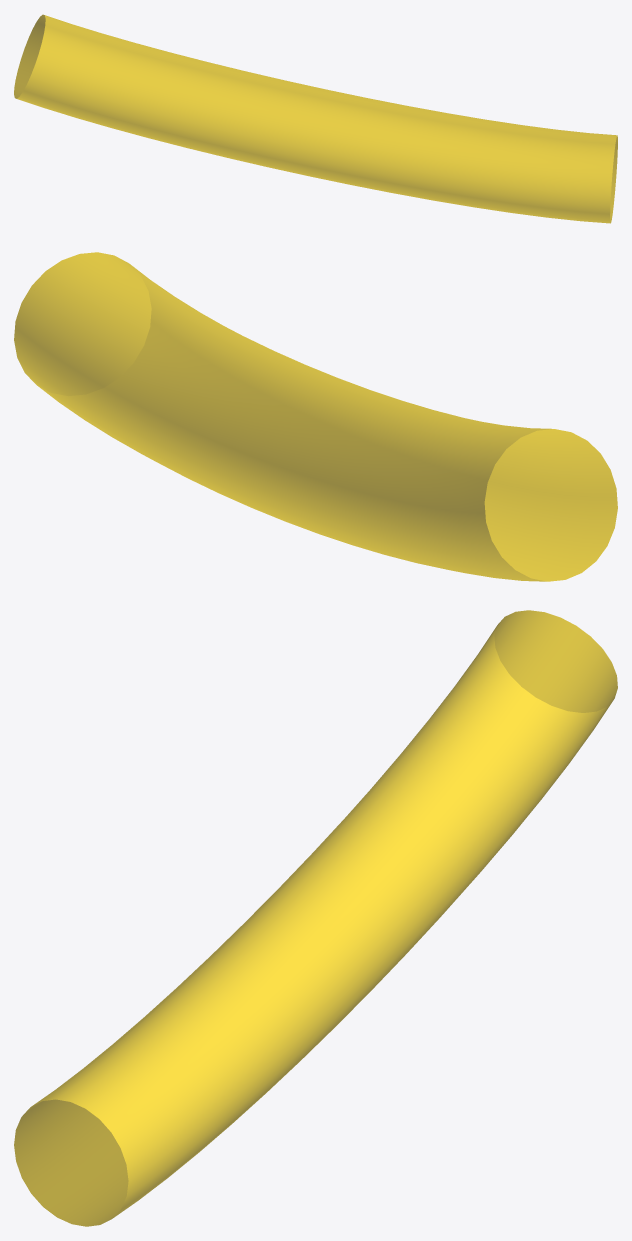
The model's file is Event_419990632_track_59.fbx.
3 views of the same model, one above another, from view 1: azimuth 30°, elevation 25°; view 2: azimuth 150°, elevation 25°; view 3: azimuth 270°, elevation 25° (orthographic). The views are drawn at different scales.
Parts seen in each view (by area): view 1: Model; view 2: Model; view 3: Model.
Part boxes in pixels (x1,y1,x2,y2): Model: (14,14,617,223); Model: (14,252,617,581); Model: (14,610,617,1226).
Size of the model in its own units: 0.2449 by 0.0948 by 0.1744.
